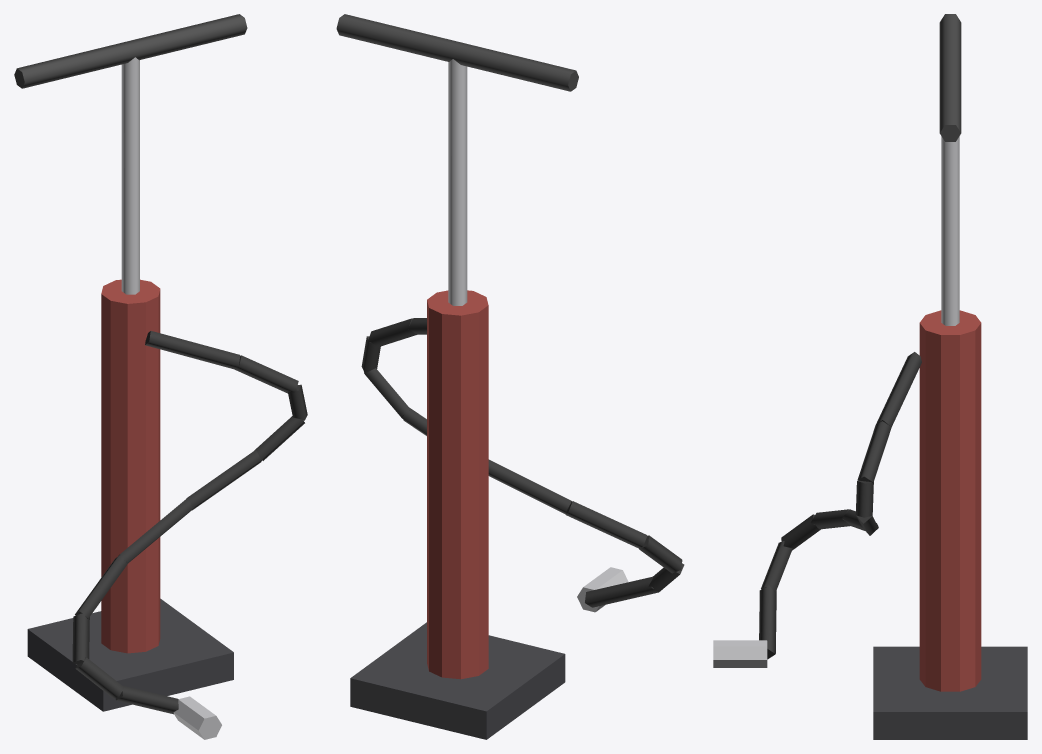
File: garage_air_pump_a.glb
3 views of the same model, side by side, from view 1: azimuth 30°, elevation 25°; view 2: azimuth 150°, elevation 25°; view 3: azimuth 270°, elevation 25° (orthographic). The views are drawn at different scales.
Parts seen in each view (by area): view 1: body; view 2: body; view 3: body.
Boxes of the visible parts, left/top/right/bottom form: body: left=14, top=14, right=307, bottom=739; body: left=336, top=14, right=684, bottom=739; body: left=713, top=14, right=1027, bottom=739.
Size of what is drawn, in the model's own units: 0.4142 by 0.9121 by 0.4074.
